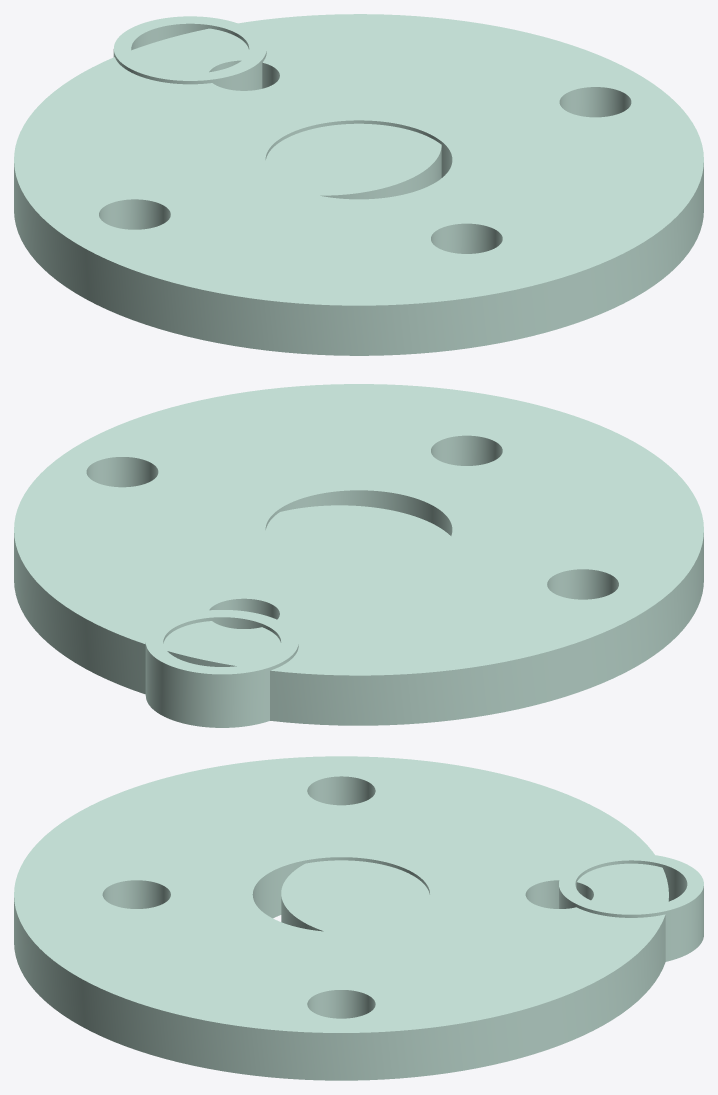
3 renders of one model, top to bottom at view 1: azimuth 30°, elevation 25°; view 2: azimuth 150°, elevation 25°; view 3: azimuth 270°, elevation 25°, orthographic. The views are drawn at different scales.
Visible parts, largest first — view 1: Renderer Node; view 2: Renderer Node; view 3: Renderer Node.
Part boxes in pixels (bbox=[...]): Renderer Node: bbox=[14, 14, 703, 355]; Renderer Node: bbox=[14, 384, 703, 727]; Renderer Node: bbox=[14, 756, 703, 1080].
Bounding box in the file's own units: 1.46 × 0.125 × 1.54.
